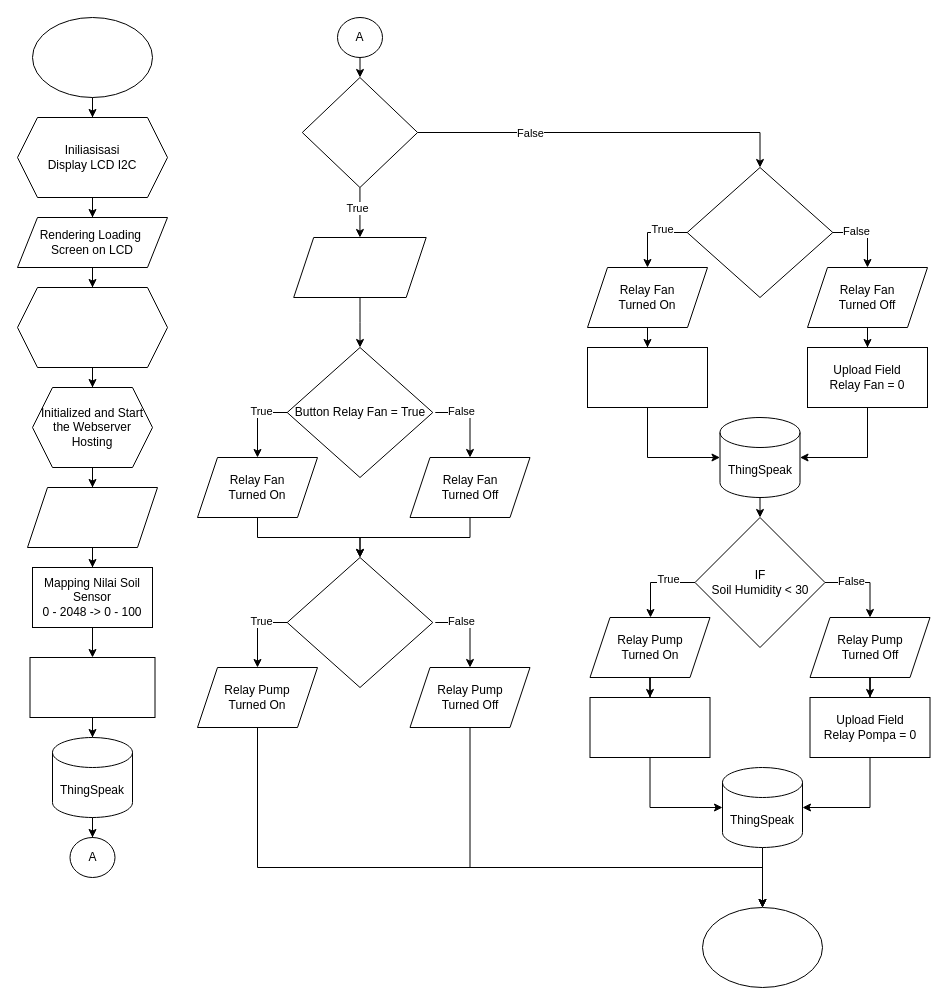
The diagram is 948 pixels wide and 1005 high, and some of its shapes have lost their labels. The centre of each missing label's shape, as x and y in pixels:
"Button Relay Pump = True" goes at point (359, 622).
"END" goes at point (762, 947).
"IF DHT21 Temp > 24 && humid > 7 0" goes at point (759, 232).
"IF Relay Button Override = True" goes at point (359, 132).
"Initialized DHT21 Sensor, Pin Soil Sensor, Relay Pin" goes at point (92, 327).
"Membaca Sensor DHT21 & Nilai Soil Sensor" goes at point (92, 517).
"Read Button From Webserver" goes at point (359, 267).
"START" goes at point (92, 57).
"Upload Field DHT21 Humidity, DHT21 Celsius, Soil Humid Percentage" goes at point (92, 687).
"Upload Field Relay Fan = 1" goes at point (647, 377).
"Upload Field Relay Pompa = 1" goes at point (649, 727).
